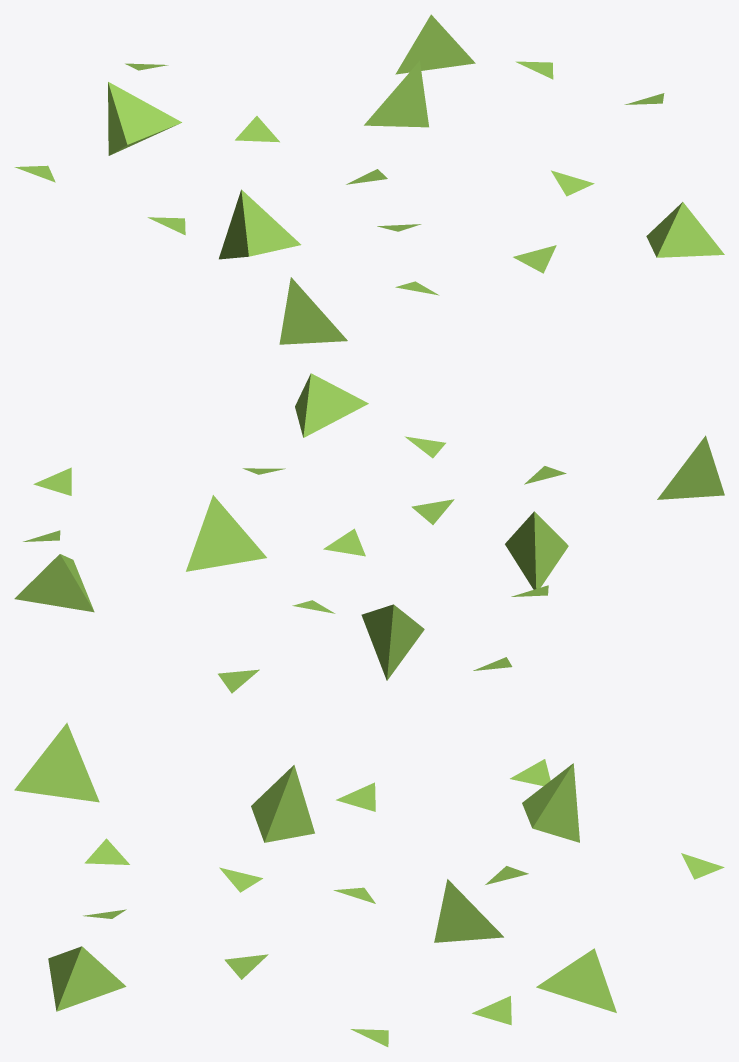
File: mesh_Rubble4_v2.fbx
3 renders of one model, top to bottom at view 1: azimuth 30°, elevation 25°; view 2: azimuth 150°, elevation 25°; view 3: azimuth 270°, elevation 25°, orthographic. The views are drawn at different scales.
Parts seen in each view (by area): view 1: mesh_Rubble4_v2_0; view 2: mesh_Rubble4_v2_0; view 3: mesh_Rubble4_v2_0.
Part boxes in pixels (x1,y1,x2,y2): mesh_Rubble4_v2_0: (14, 14, 724, 344); mesh_Rubble4_v2_0: (14, 373, 724, 693); mesh_Rubble4_v2_0: (14, 722, 724, 1046).
Size of the model in its own units: 64.38 by 9.22 by 68.98.
